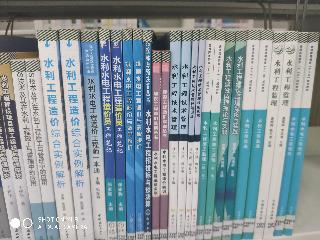book-spine: (39, 31, 76, 240), (283, 33, 318, 234), (263, 32, 297, 236), (252, 32, 285, 238), (274, 32, 307, 235), (60, 31, 92, 240), (11, 60, 47, 240), (242, 32, 272, 238), (0, 54, 33, 240), (231, 31, 259, 238), (26, 60, 58, 239), (81, 33, 106, 240), (222, 32, 246, 239), (202, 31, 225, 239), (212, 32, 234, 240), (196, 30, 215, 239), (99, 30, 117, 239), (111, 31, 128, 238), (190, 30, 205, 239), (166, 31, 180, 239), (184, 31, 198, 239), (0, 108, 22, 240), (177, 32, 190, 239), (123, 31, 134, 238), (134, 31, 143, 239), (160, 53, 169, 238), (143, 32, 151, 239), (153, 52, 160, 239)
